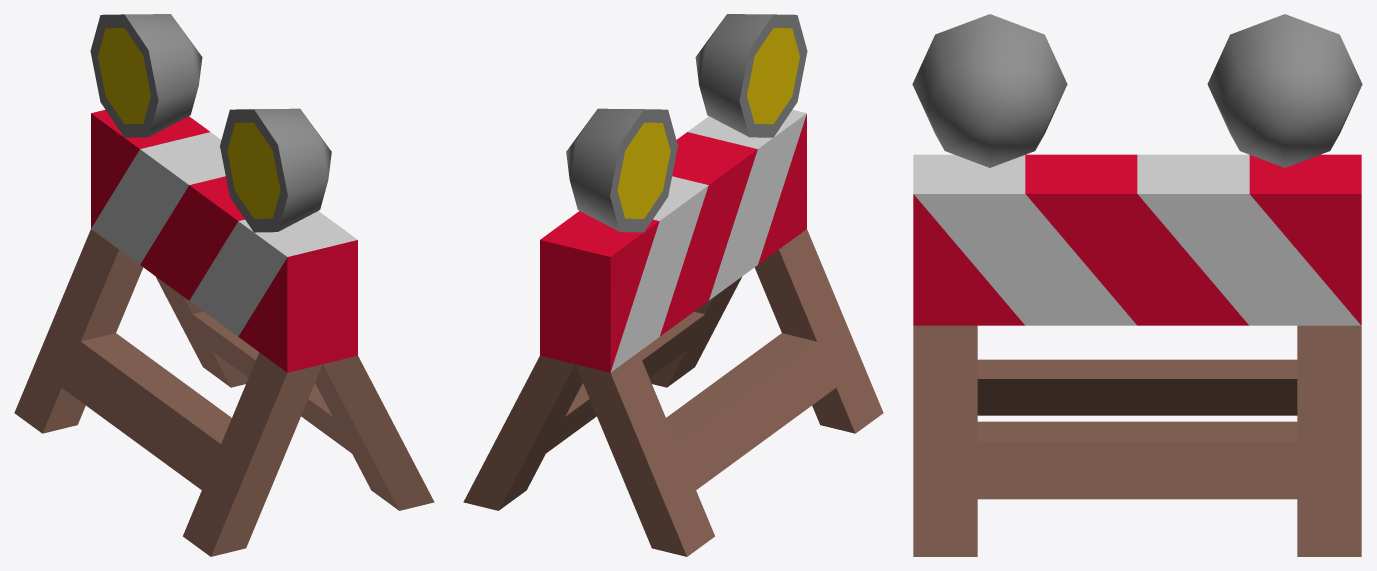
Rendered from road_barrier_lump.fbx.
The picture shows the model from 3 angles, left to right: view 1: azimuth 30°, elevation 25°; view 2: azimuth 150°, elevation 25°; view 3: azimuth 270°, elevation 25°; orthographic projection. The views are drawn at different scales.
Parts seen in each view (by area): view 1: road_barrier_lump; view 2: road_barrier_lump; view 3: road_barrier_lump.
Part boxes in pixels (x1=…): road_barrier_lump: x1=14, y1=14, x2=434, y2=556; road_barrier_lump: x1=463, y1=14, x2=883, y2=556; road_barrier_lump: x1=912, y1=14, x2=1362, y2=556.
Size of the model in its own units: 116 by 200 by 177.
